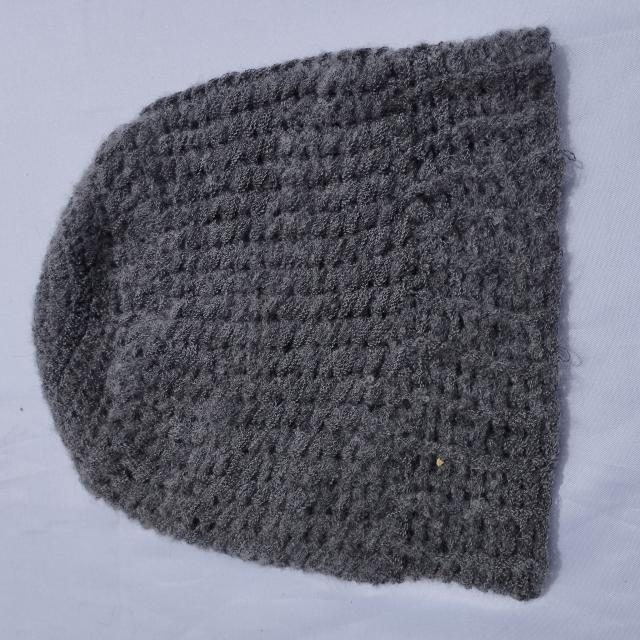Gorro: (30, 25, 570, 601)
